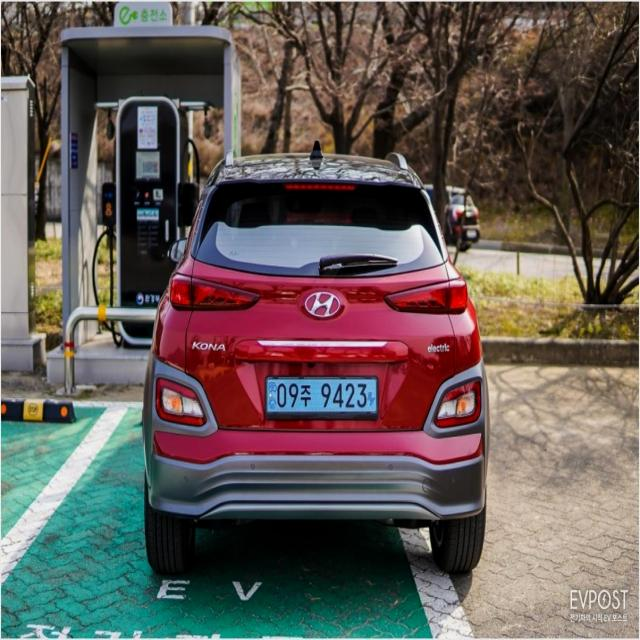EV_plate: (266, 370, 380, 420)
car: (140, 142, 490, 589)
